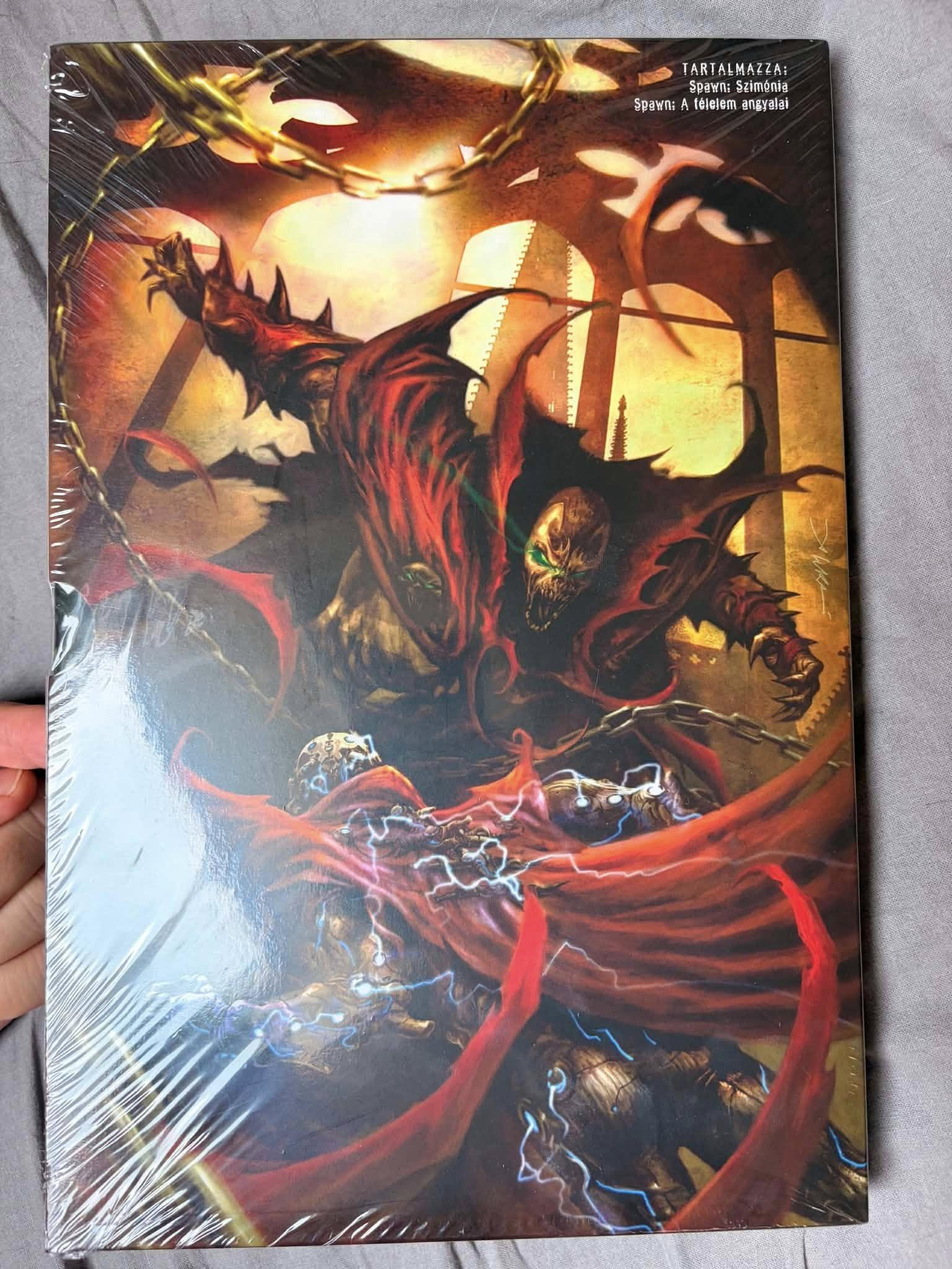comic: (15, 24, 868, 1253)
